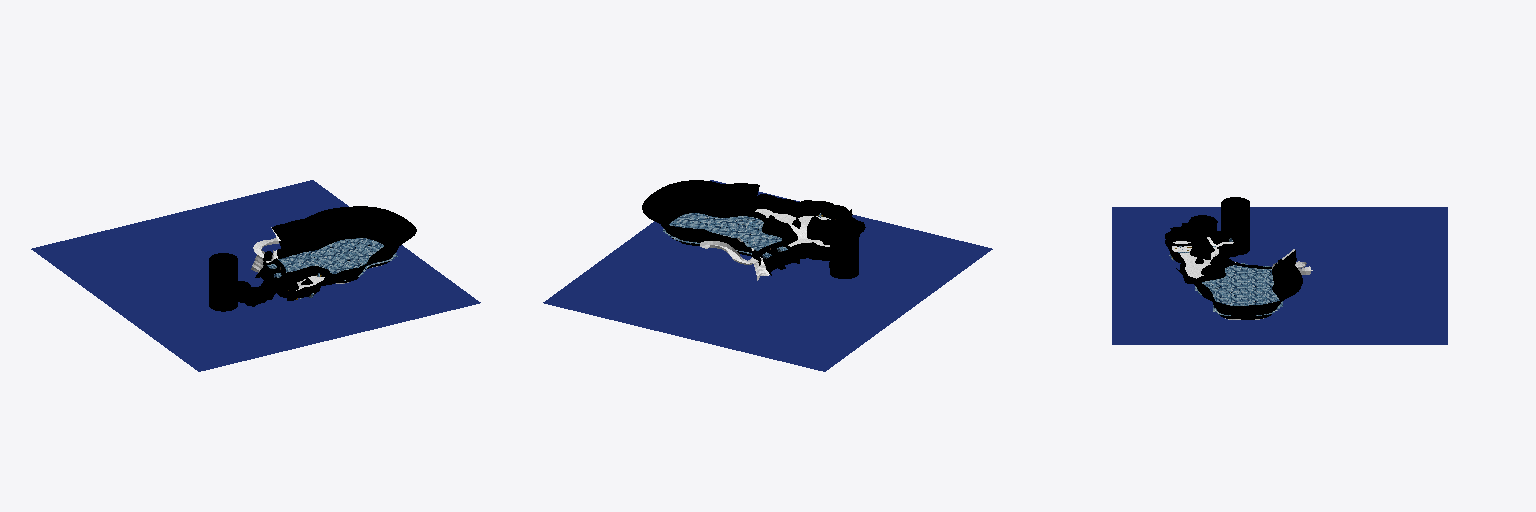
The picture shows the model from 3 angles: view 1: azimuth 30°, elevation 25°; view 2: azimuth 150°, elevation 25°; view 3: azimuth 270°, elevation 25°; orthographic projection.
Parts seen in each view (by area): view 1: Terrain oceanLayer, Terrain, damIce, Terrain tempTower4; view 2: Terrain oceanLayer, Terrain, damIce, Terrain tempTower4, Terrain Dam; view 3: Terrain oceanLayer, Terrain, damIce, Terrain tempTower4.
Boxes of the visible parts, x1,y1,x2,y2 form: Terrain oceanLayer: [31, 180, 480, 371]; Terrain: [232, 206, 416, 306]; damIce: [278, 238, 397, 280]; Terrain tempTower4: [209, 253, 237, 311]; Terrain oceanLayer: [543, 180, 992, 371]; Terrain: [642, 180, 865, 280]; damIce: [663, 213, 781, 254]; Terrain tempTower4: [830, 221, 858, 278]; Terrain Dam: [758, 241, 799, 275]; Terrain oceanLayer: [1112, 207, 1447, 344]; Terrain: [1165, 215, 1312, 319]; damIce: [1195, 265, 1282, 315]; Terrain tempTower4: [1221, 197, 1249, 255].
Bounding box in the file's own units: 383 × 67.87 × 395.
9 materials, 4 textured.